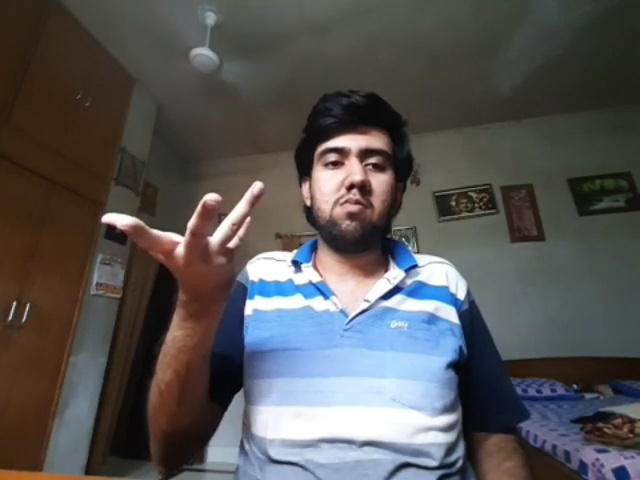What: (100, 181, 268, 298)
